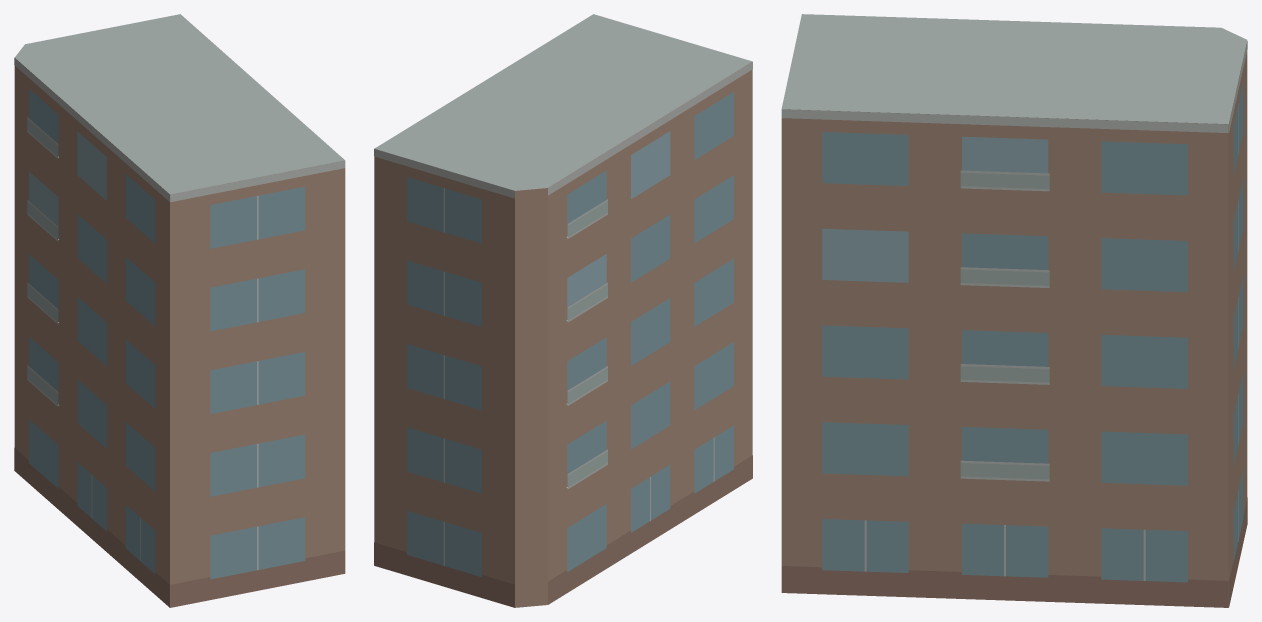
Rendered from survey-upis-33038590.glb.
3 renders of one model, left to right at view 1: azimuth 30°, elevation 25°; view 2: azimuth 150°, elevation 25°; view 3: azimuth 270°, elevation 25°, orthographic. The views are drawn at different scales.
Visible parts, largest first — view 1: survey-upis-33038590.tmp; view 2: survey-upis-33038590.tmp; view 3: survey-upis-33038590.tmp.
Boxes of the visible parts, box(x1,y1,x2,y2) form: survey-upis-33038590.tmp: box(14, 14, 345, 607); survey-upis-33038590.tmp: box(374, 14, 752, 607); survey-upis-33038590.tmp: box(781, 14, 1247, 607).
Size of the model in its own units: 6.41 by 13.1 by 11.45.
